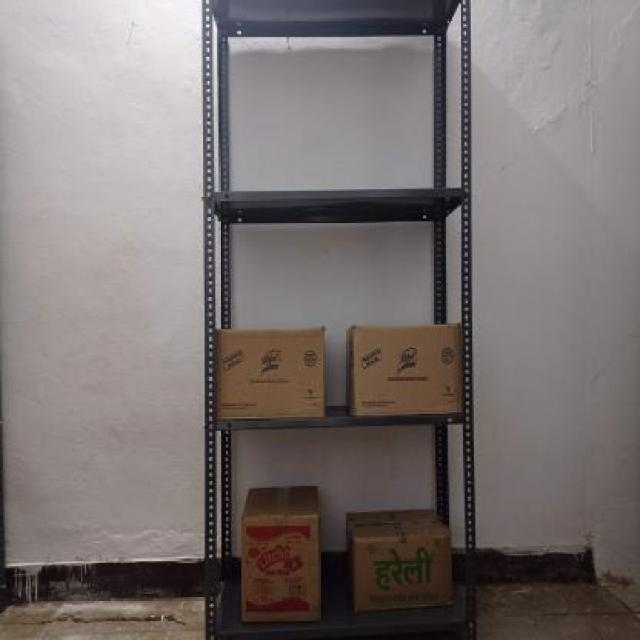box: (350, 326, 465, 417), (218, 329, 326, 419), (240, 514, 320, 623), (354, 537, 454, 611)
